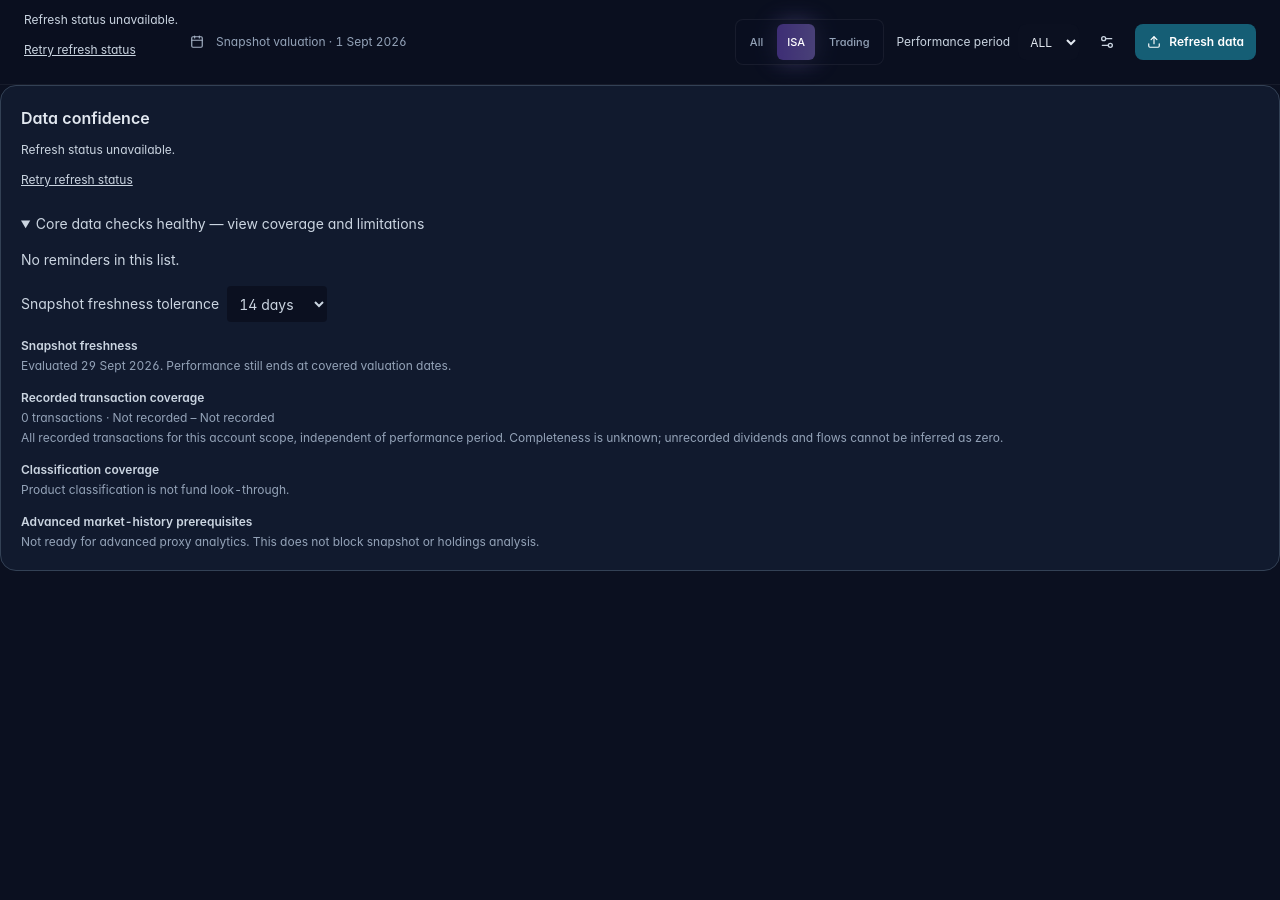
Test: shares an initial 503 failure and a read-only retry across both surfaces
This screenshot has width=1280, height=900.
Check: the message "Refresh status unavailable. Retry refresh status" next to "Snapshot valuation · 1 Sept 2026" is shown, box x1=24 y1=12 x2=178 y2=72
Check: the text "Refresh outcome:" is not shown
Click the button "Retry refresh status" below "Data confidence" at (77, 180), box x1=21 y1=158 x2=133 y2=202
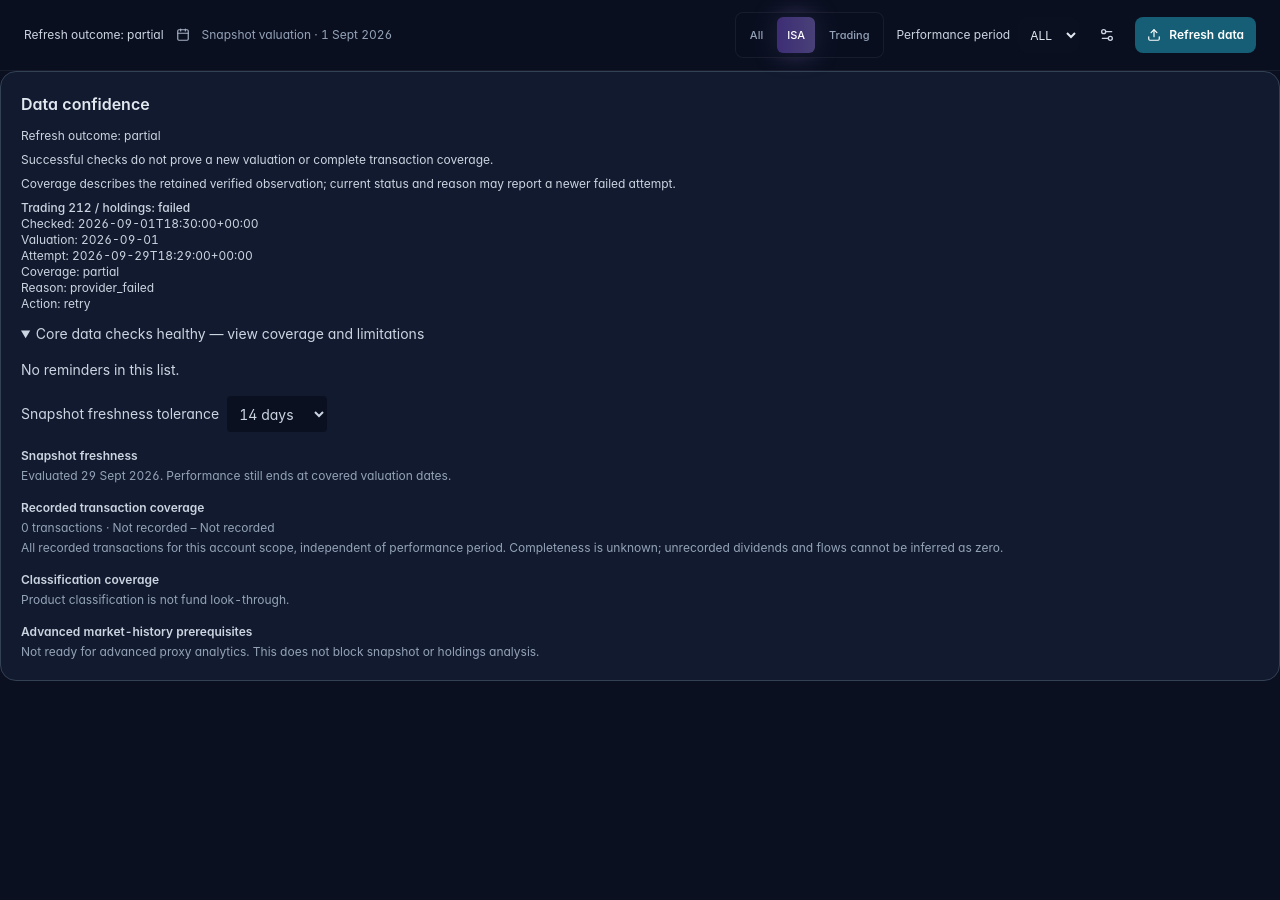
Check: the text "Refresh outcome: partial" next to "Snapshot valuation · 1 Sept 2026" is shown, box x1=24 y1=27 x2=164 y2=43
Check: the text "Checked: 2026-09-01T18:30:00+00:00" is shown, box x1=21 y1=216 x2=259 y2=231
Check: no messages are shown
